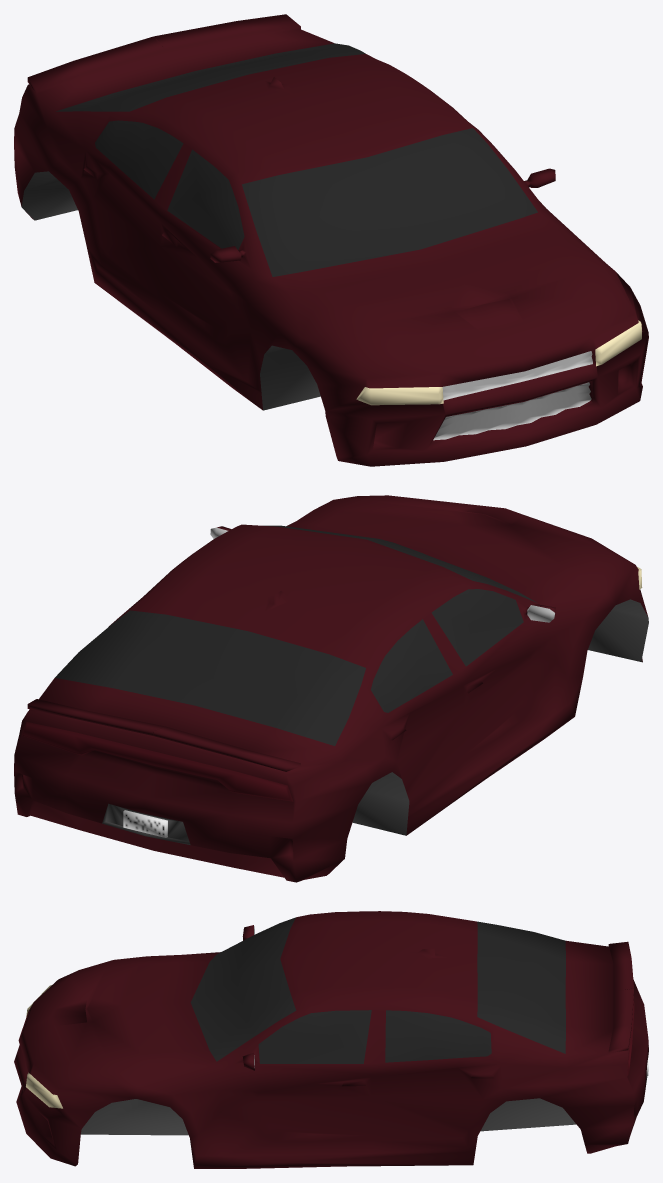
Rendered from dodge hellcat.fbx.
The picture shows the model from 3 angles, top to bottom: view 1: azimuth 30°, elevation 25°; view 2: azimuth 150°, elevation 25°; view 3: azimuth 270°, elevation 25°; orthographic projection. The views are drawn at different scales.
Parts seen in each view (by area): view 1: dodge hellcat; view 2: dodge hellcat; view 3: dodge hellcat.
Boxes of the visible parts, bbox=[...] form: dodge hellcat: bbox=[14, 14, 648, 466]; dodge hellcat: bbox=[14, 495, 648, 882]; dodge hellcat: bbox=[14, 911, 648, 1168].
Size of the model in its own units: 3.09 by 1.63 by 5.96.
